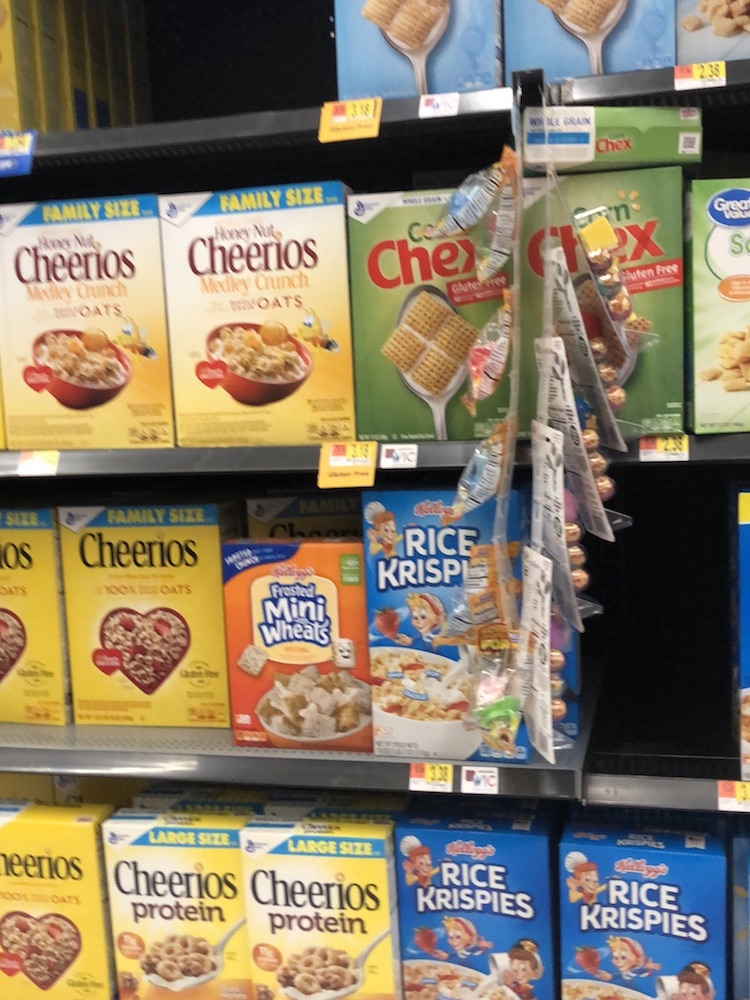Frosted Mini Original -9295869: (225, 533, 375, 752)
